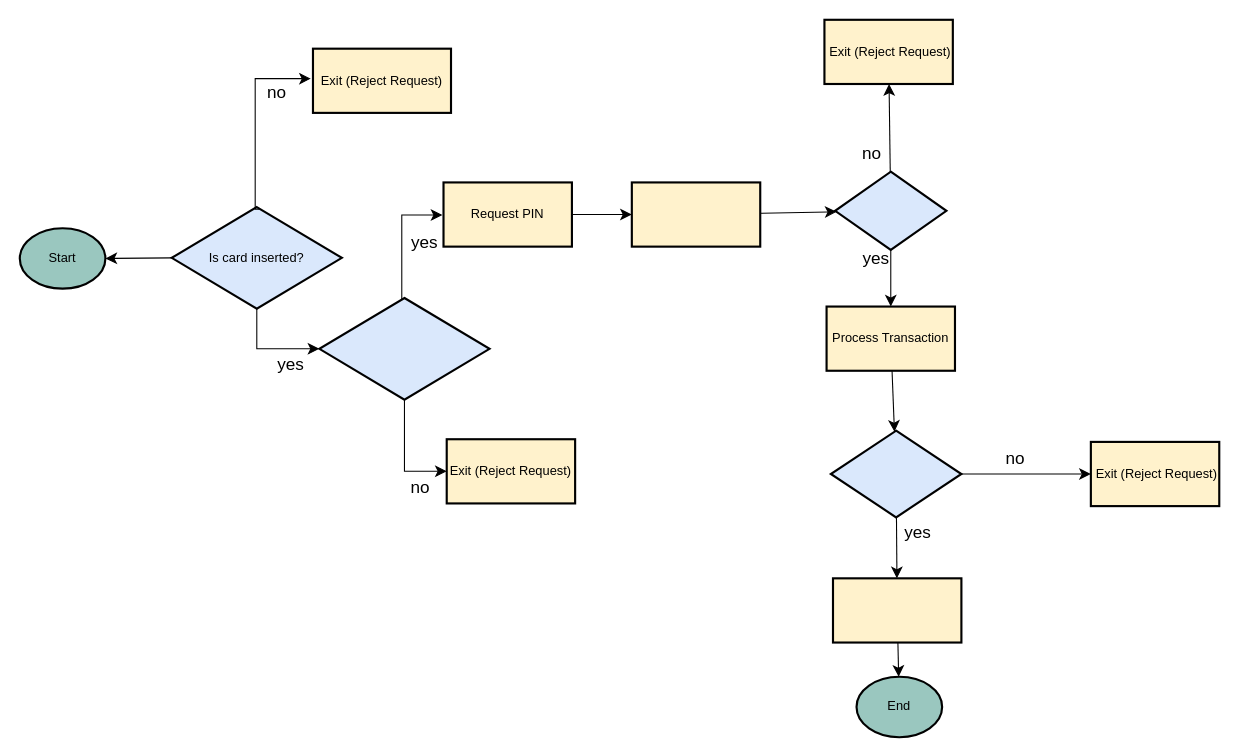
Image size: 1238x756. Some labels were removed from this diagram. Here are the shapes that lost their labels. From the top down, the centre of each, then its label:
pixel 695 214: Read PIN
pixel 890 210: Is PIN Valid?
pixel 404 348: Is Card Valid?
pixel 895 473: Is Transaction Complete?
pixel 896 610: Eject Card
